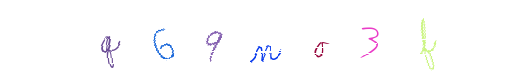3: (328, 0, 408, 80)
6: (144, 0, 224, 80)
9: (176, 0, 256, 80)
F: (386, 0, 466, 80)
N: (222, 0, 302, 80)
O: (280, 0, 360, 80)
Q: (123, 0, 203, 80)
